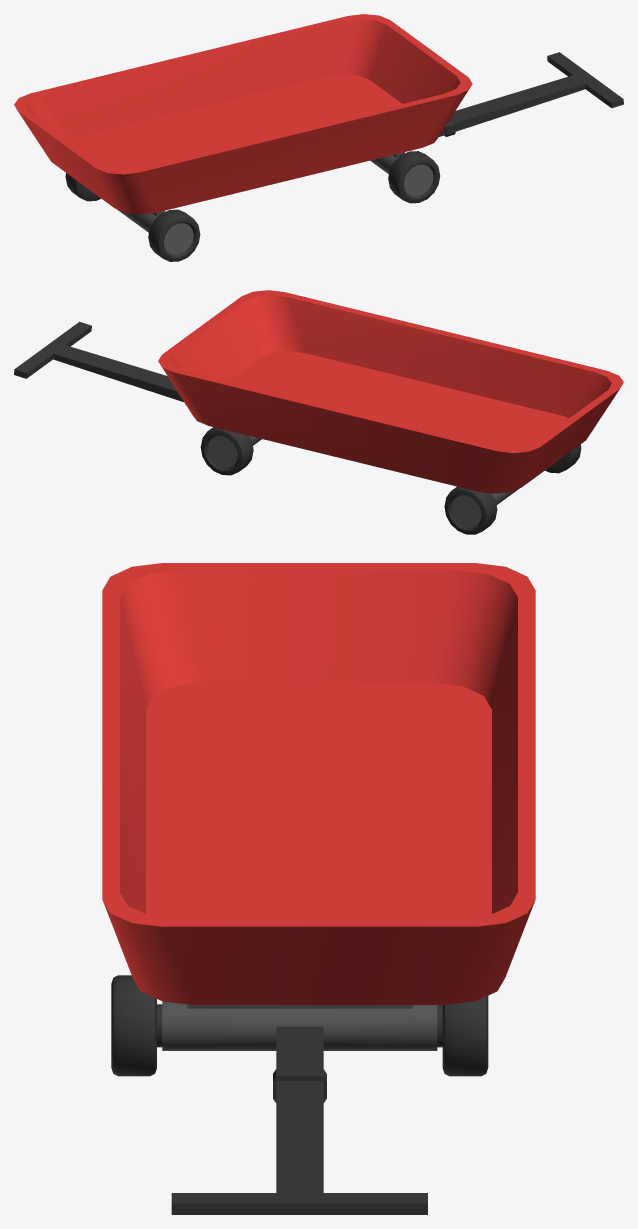
Rendered from Wagon.fbx.
3 renders of one model, top to bottom at view 1: azimuth 30°, elevation 25°; view 2: azimuth 150°, elevation 25°; view 3: azimuth 270°, elevation 25°, orthographic. The views are drawn at different scales.
Parts seen in each view (by area): view 1: Wagon; view 2: Wagon; view 3: Wagon.
Part boxes in pixels (left/top/right/bottom): Wagon: left=14, top=14, right=623, bottom=261; Wagon: left=14, top=290, right=623, bottom=534; Wagon: left=102, top=563, right=535, bottom=1214.
Size of the model in its own units: 150 by 27.68 by 53.01.
1 material, 1 textured.
